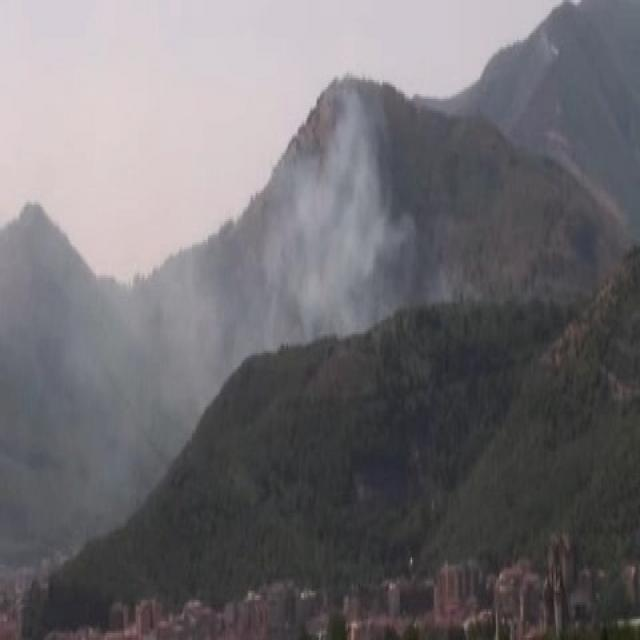smoke: (254, 101, 406, 330), (80, 279, 218, 416)
